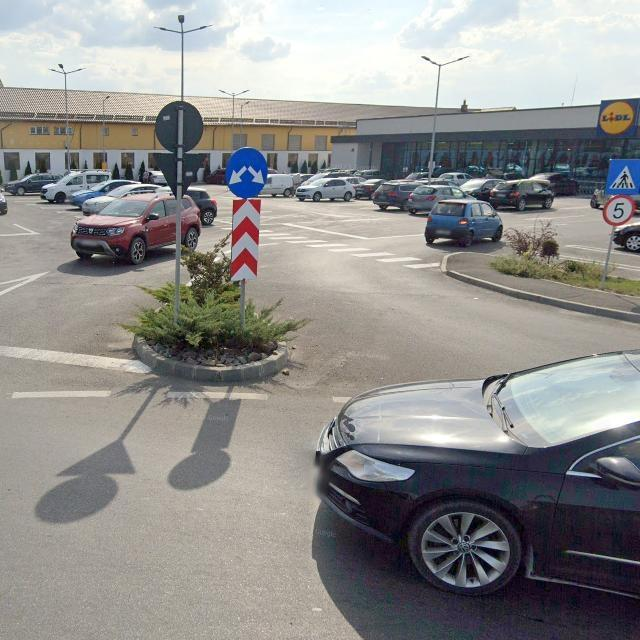info_crosswalk: (604, 158, 640, 194)
